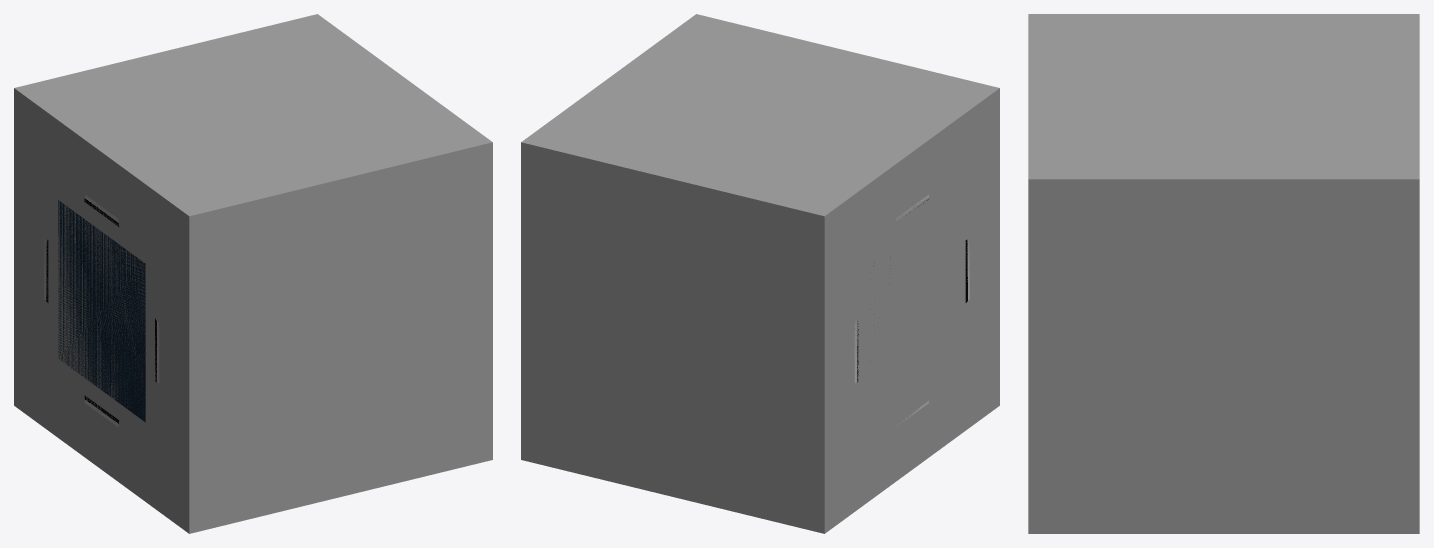
File: AnalogChips.obj
3 views of the same model, side by side, from view 1: azimuth 30°, elevation 25°; view 2: azimuth 150°, elevation 25°; view 3: azimuth 270°, elevation 25° (orthographic). The views are drawn at different scales.
Visible parts, largest first — view 1: Minecraft_Block_Cube, Minecraft_2_Edge_Connectivity_Cube.002, Case; view 2: Minecraft_Block_Cube, Minecraft_2_Edge_Connectivity_Cube.002; view 3: Minecraft_Block_Cube.
Boxes of the visible parts, box(x1,y1,x2,y2) form: Minecraft_Block_Cube: box(14, 14, 492, 533); Minecraft_2_Edge_Connectivity_Cube.002: box(14, 88, 339, 533); Case: box(58, 200, 145, 422); Minecraft_Block_Cube: box(521, 14, 999, 533); Minecraft_2_Edge_Connectivity_Cube.002: box(674, 88, 999, 533); Minecraft_Block_Cube: box(1028, 14, 1419, 533).
Bounding box in the file's own units: 1 × 1 × 1.
Materials: 2 (1 with a texture image).
